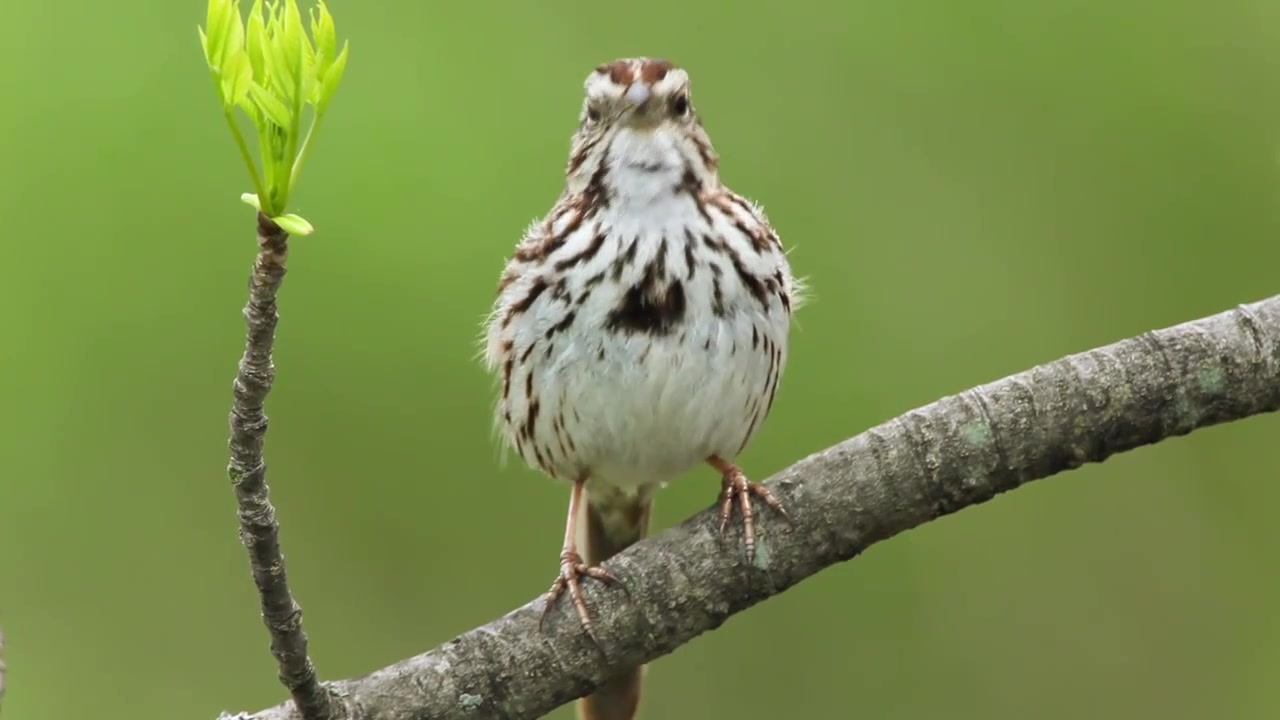bird: (472, 53, 810, 720)
